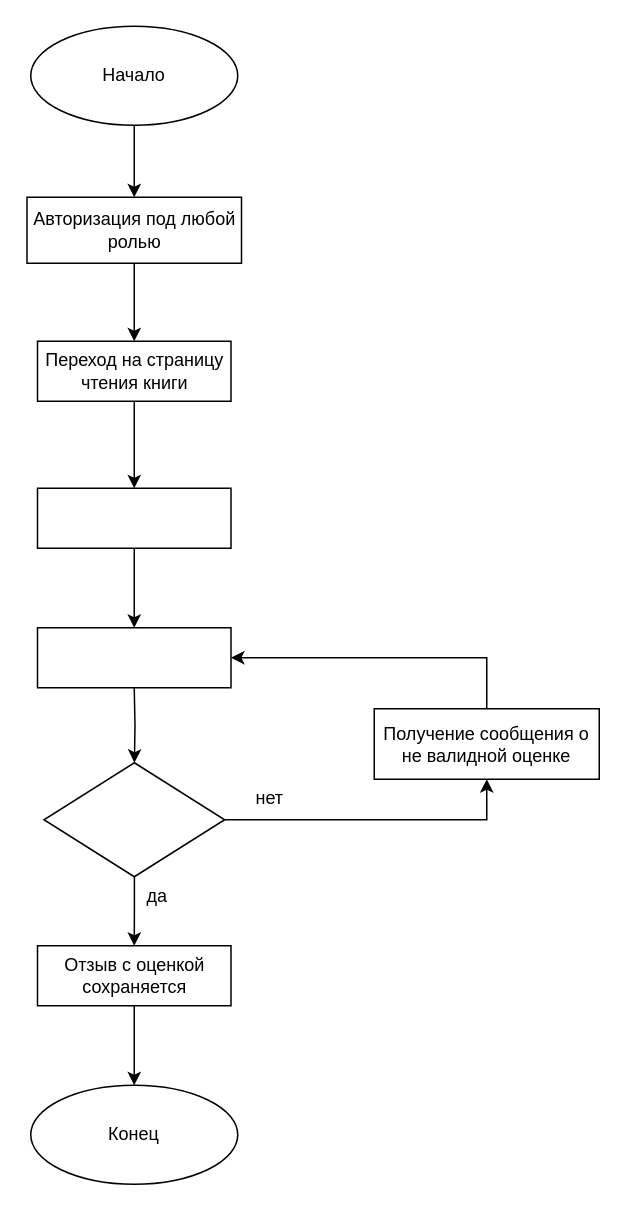
The diagram is 626 pixels wide and 1211 high, and some of its shapes have lost their labels. The centre of each missing label's shape, as x and y in pixels:
"Ввод отзыва в текстовое поле" goes at point 133,517.
"Оценка валидна" goes at point 133,819.
"Поставить книге оценку" goes at point 133,657.
